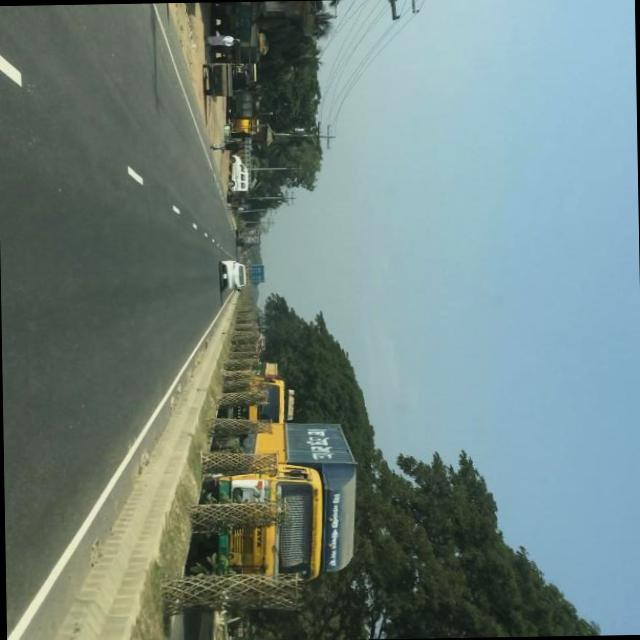car: (220, 256, 248, 290)
truck: (188, 418, 364, 576), (228, 360, 292, 422), (201, 57, 254, 97), (229, 152, 251, 196), (248, 261, 266, 282)
